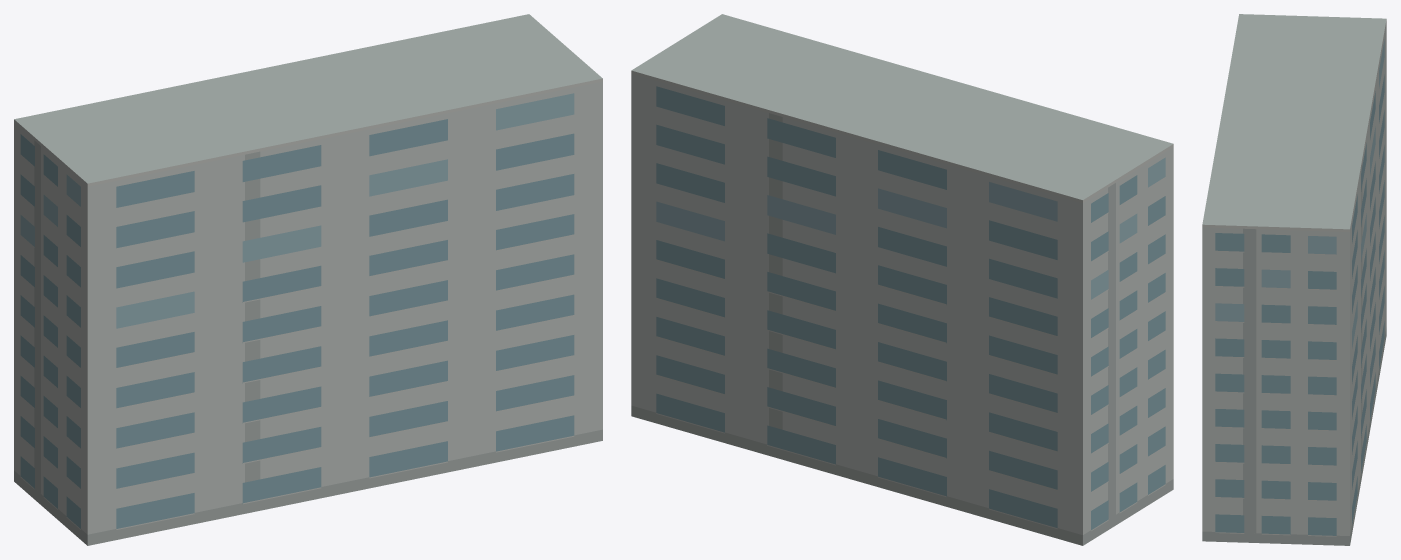
Rendered from residential-c7b11e80-eadf-4df2-9629-4a0ef55b354a.glb.
3 renders of one model, left to right at view 1: azimuth 30°, elevation 25°; view 2: azimuth 150°, elevation 25°; view 3: azimuth 270°, elevation 25°, orthographic. The views are drawn at different scales.
Visible parts, largest first — view 1: residential-c7b11e80-eadf-4df2-9629-4a0ef55b354a.tmp; view 2: residential-c7b11e80-eadf-4df2-9629-4a0ef55b354a.tmp; view 3: residential-c7b11e80-eadf-4df2-9629-4a0ef55b354a.tmp.
Boxes of the visible parts, bbox=[...] form: residential-c7b11e80-eadf-4df2-9629-4a0ef55b354a.tmp: bbox=[14, 14, 602, 545]; residential-c7b11e80-eadf-4df2-9629-4a0ef55b354a.tmp: bbox=[631, 14, 1173, 545]; residential-c7b11e80-eadf-4df2-9629-4a0ef55b354a.tmp: bbox=[1202, 14, 1386, 545].
Bounding box in the file's own units: 40.85 × 28 × 14.78.
